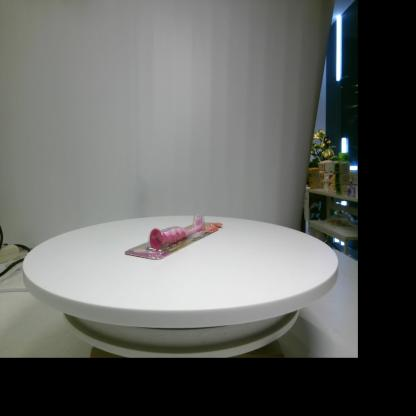Personal Hygiene: (125, 212, 223, 260)
